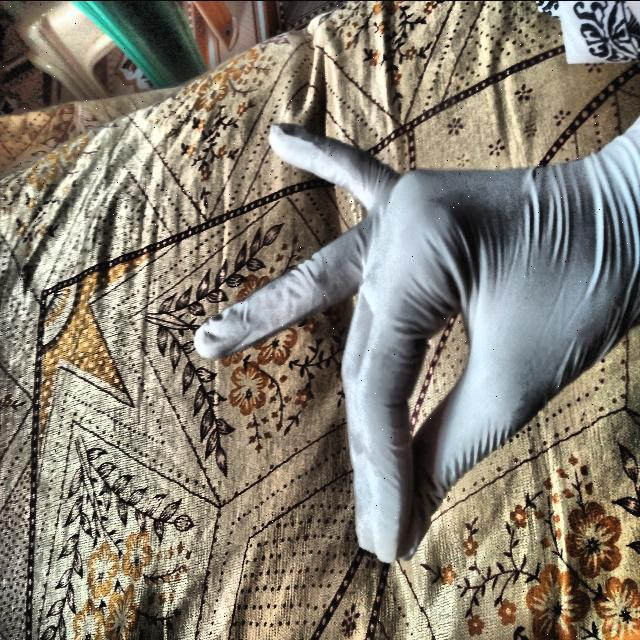gloved: (193, 113, 640, 568)
